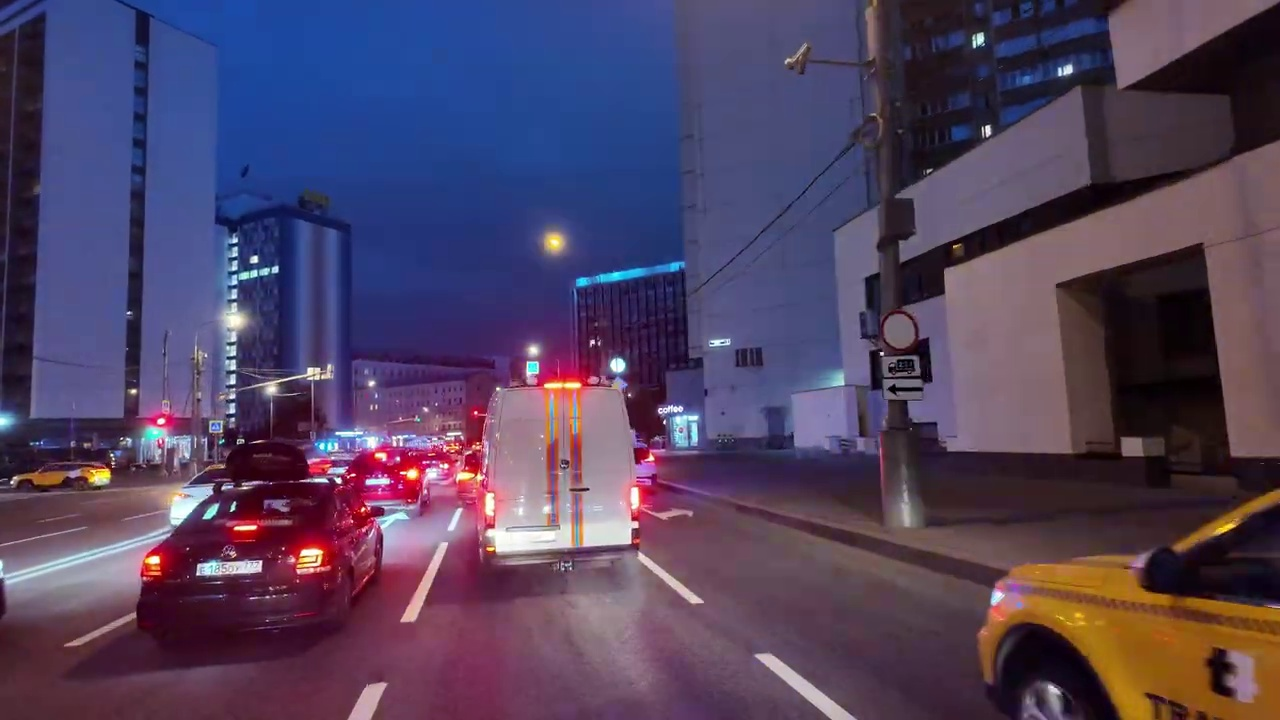acesa: (540, 228, 569, 257)
apagada: (782, 42, 812, 76)
